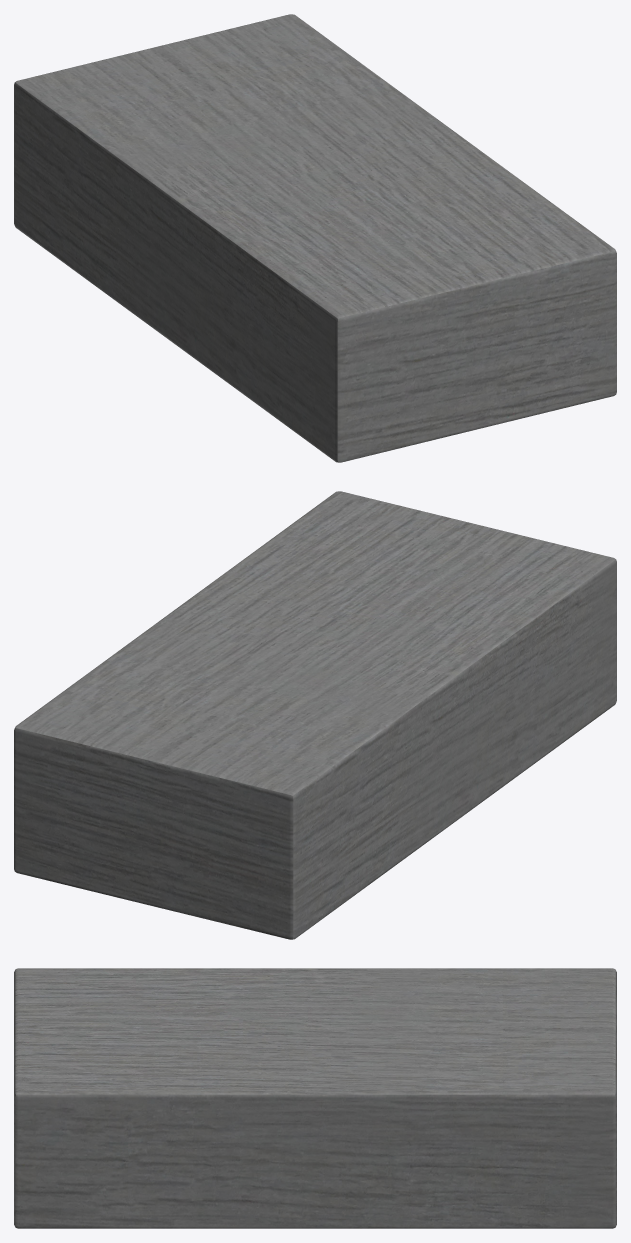
Rendered from Ablock1.obj.
The picture shows the model from 3 angles, top to bottom: view 1: azimuth 30°, elevation 25°; view 2: azimuth 150°, elevation 25°; view 3: azimuth 270°, elevation 25°; orthographic projection. The views are drawn at different scales.
Visible parts, largest first — view 1: pCube1; view 2: pCube1; view 3: pCube1.
Part boxes in pixels (bbox=[...]): pCube1: bbox=[14, 14, 616, 462]; pCube1: bbox=[14, 491, 616, 939]; pCube1: bbox=[14, 968, 616, 1228].
Size of the model in its own units: 200 by 100 by 400.
Materials: 1 (1 with a texture image).
